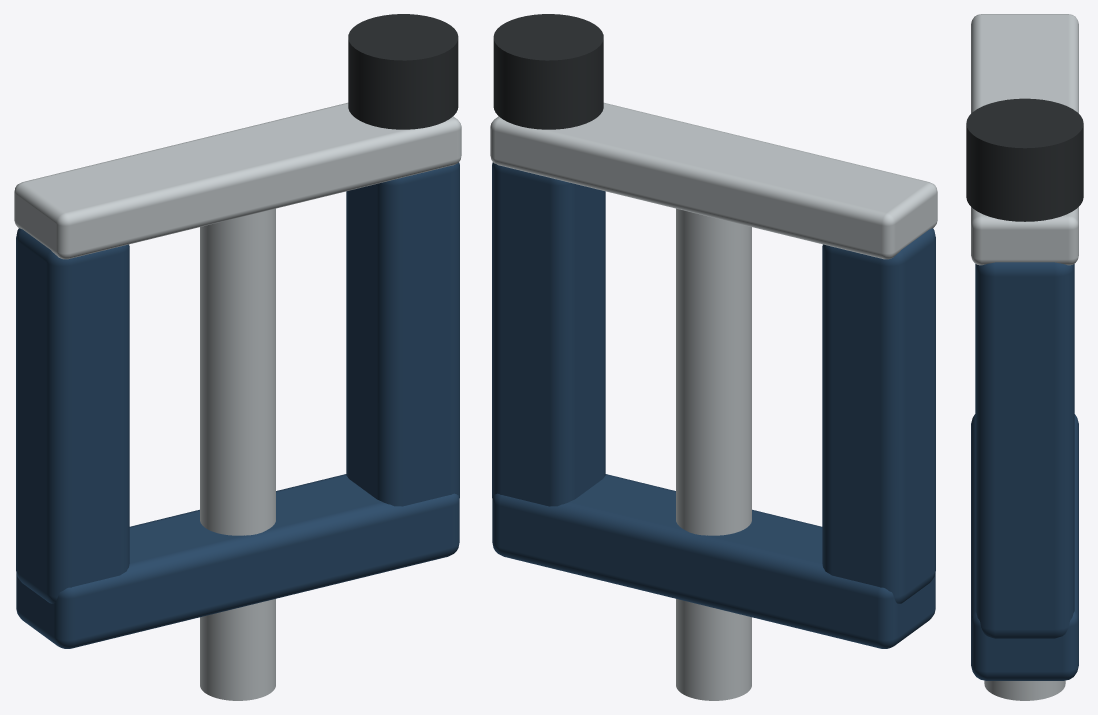
Rendered from rowing-boathouse-and-regatta-course-oarlock-gate-36045375__32135.glb.
The picture shows the model from 3 angles, left to right: view 1: azimuth 30°, elevation 25°; view 2: azimuth 150°, elevation 25°; view 3: azimuth 270°, elevation 25°; orthographic projection. The views are drawn at different scales.
Visible parts, largest first — view 1: oarlock-gate; view 2: oarlock-gate; view 3: oarlock-gate.
Boxes of the visible parts, box(x1,y1,x2,y2) form: oarlock-gate: box(14, 14, 461, 700); oarlock-gate: box(490, 14, 937, 700); oarlock-gate: box(966, 14, 1083, 700).
Bounding box in the file's own units: 0.114 × 0.158 × 0.026.
